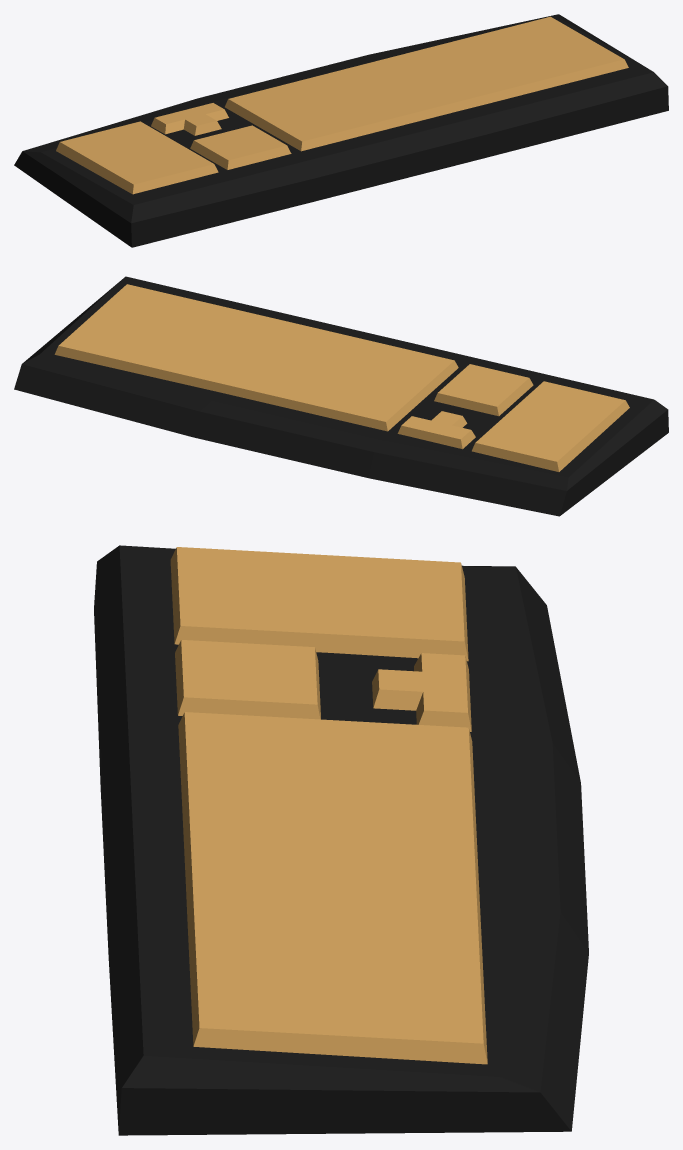
The model's file is PC_Keyboard.fbx.
3 renders of one model, top to bottom at view 1: azimuth 30°, elevation 25°; view 2: azimuth 150°, elevation 25°; view 3: azimuth 270°, elevation 25°, orthographic. The views are drawn at different scales.
Visible parts, largest first — view 1: pc-keyboard; view 2: pc-keyboard; view 3: pc-keyboard.
Part boxes in pixels (bbox=[...]): pc-keyboard: bbox=[14, 14, 668, 247]; pc-keyboard: bbox=[14, 276, 668, 516]; pc-keyboard: bbox=[94, 545, 588, 1135].
Bounding box in the file's own units: 0.5141 × 0.0381 × 0.2029.
